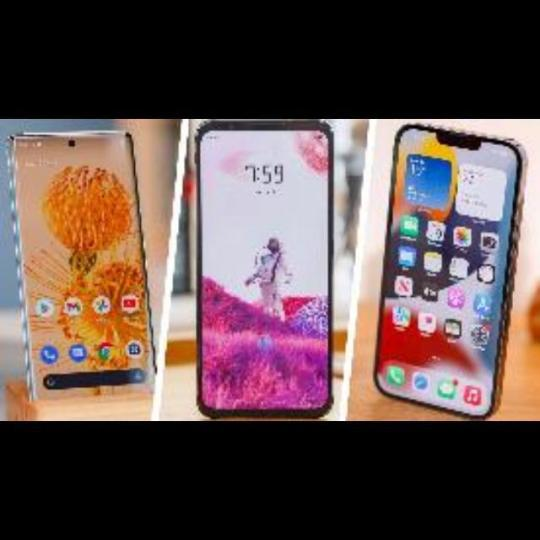phone: (188, 122, 334, 421), (376, 121, 506, 414), (18, 134, 157, 408)
